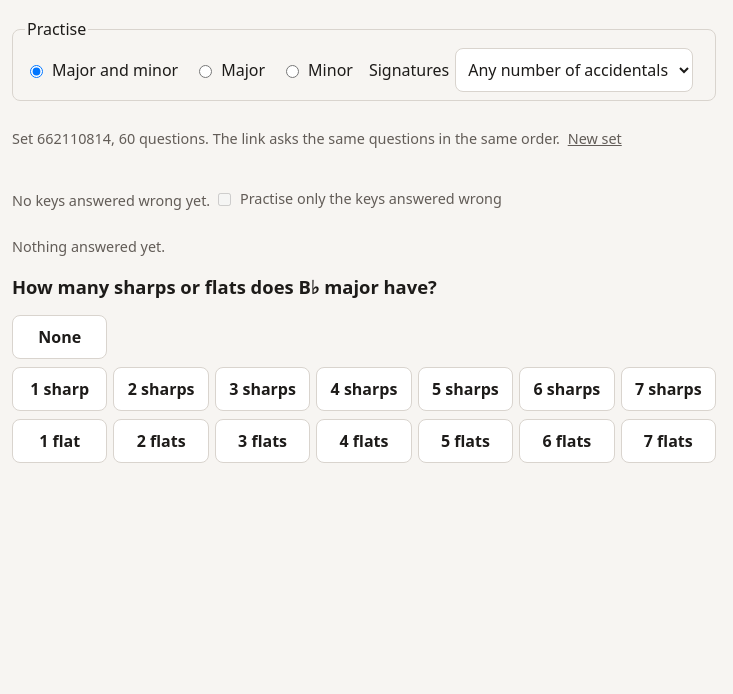
Test: KeyQuiz: how many? › moves on to the next question in the deck
The width and height of the screenshot is (733, 694).
Click the button "7 sharps".
click(668, 389)  # box 621,367 -> 716,411
(page scrolled)
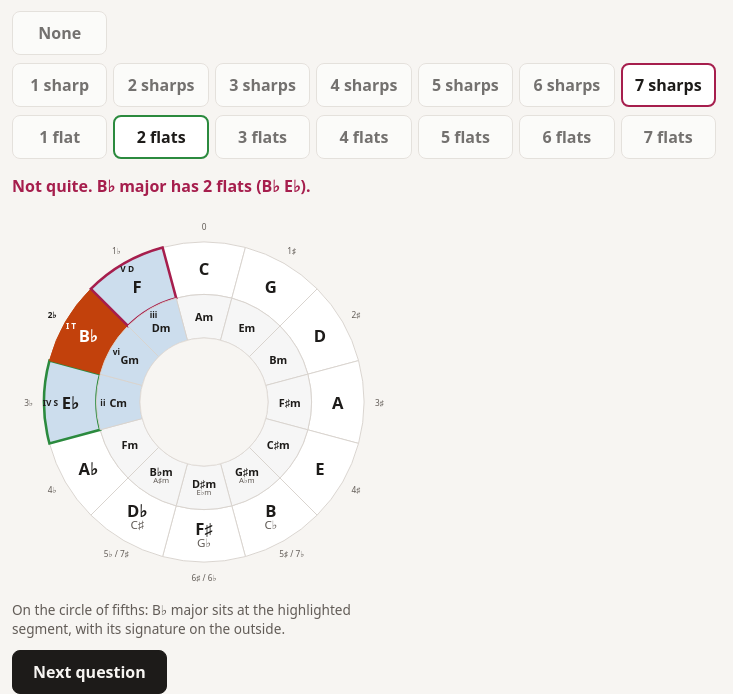
Click the button "Next question".
click(89, 672)  # box 12,650 -> 167,693
(page scrolled)
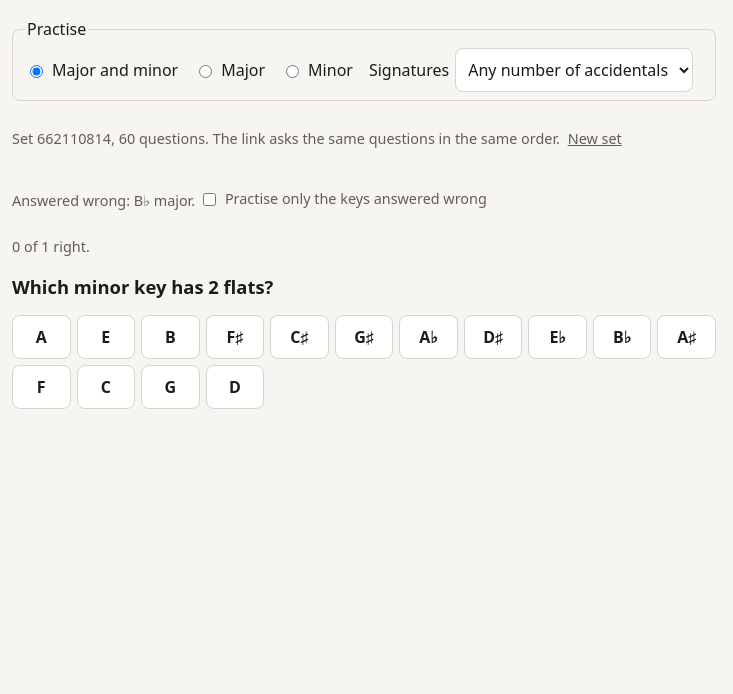
Expected: the text "0 of 1 right." is shown, 12,237 -> 90,256
Expected: the message is gone
